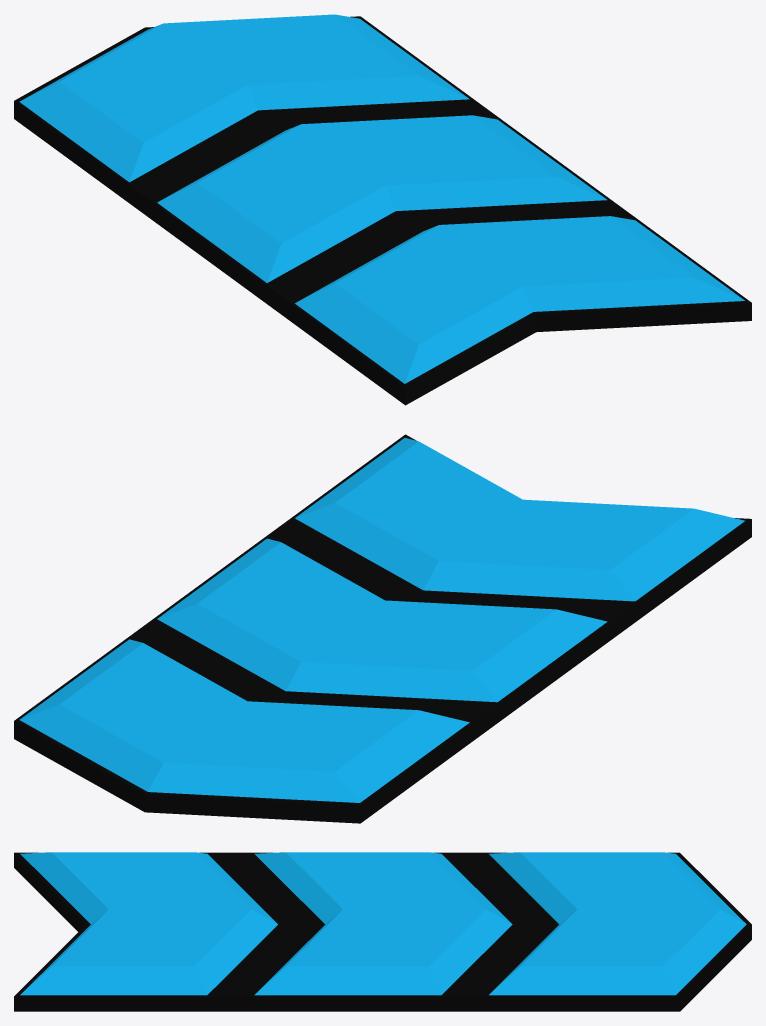
File: arrows-unlit.glb
The picture shows the model from 3 angles, top to bottom: view 1: azimuth 30°, elevation 25°; view 2: azimuth 150°, elevation 25°; view 3: azimuth 270°, elevation 25°; orthographic projection. The views are drawn at different scales.
Visible parts, largest first — view 1: Cube, Cube.001; view 2: Cube, Cube.001; view 3: Cube, Cube.001.
Part boxes in pixels (bbox=[...]): Cube: bbox=[19, 14, 744, 383]; Cube.001: bbox=[14, 16, 751, 405]; Cube: bbox=[19, 438, 745, 802]; Cube.001: bbox=[14, 434, 751, 823]; Cube: bbox=[20, 852, 746, 995]; Cube.001: bbox=[14, 852, 751, 1011].
Size of the model in its own units: 2.03 by 0.2017 by 4.41.
